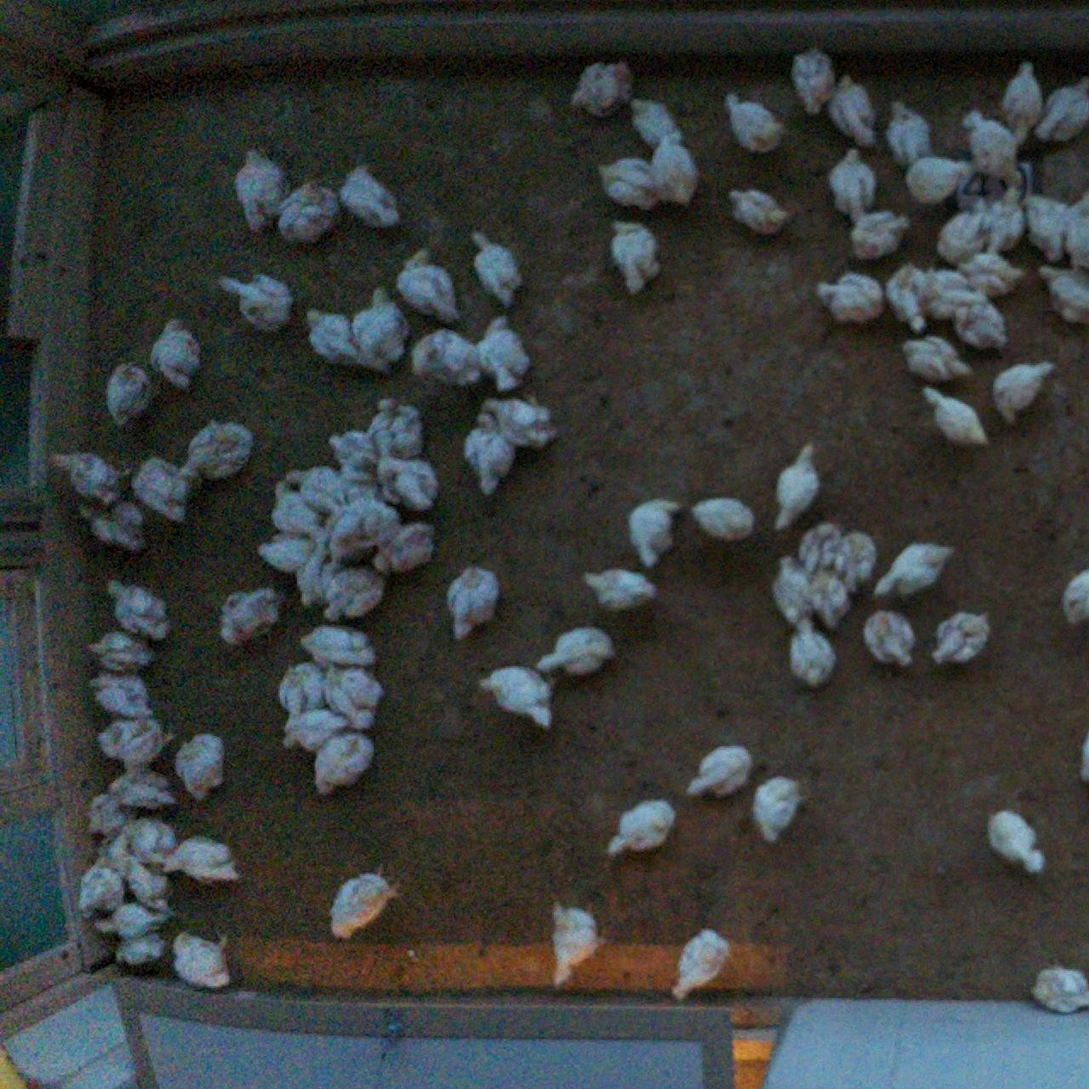chicken: (324, 864, 403, 944), (667, 924, 740, 1003), (481, 660, 560, 733), (97, 570, 173, 644), (339, 161, 412, 237), (984, 804, 1057, 880), (745, 773, 812, 852), (214, 271, 296, 334), (533, 627, 625, 682), (69, 499, 156, 556), (548, 902, 607, 984), (871, 542, 960, 596), (717, 89, 789, 155), (231, 146, 286, 231), (923, 389, 1005, 445), (412, 328, 487, 389), (398, 249, 458, 325), (957, 114, 1020, 186), (450, 562, 505, 644), (131, 455, 191, 530), (784, 42, 843, 118), (568, 58, 639, 121), (998, 60, 1047, 150), (686, 738, 759, 798), (182, 419, 254, 479), (373, 450, 442, 512), (352, 285, 402, 370), (462, 414, 518, 489), (474, 316, 531, 389), (328, 499, 402, 555), (289, 464, 362, 520), (609, 797, 676, 858), (480, 395, 557, 448), (887, 100, 945, 170), (784, 618, 841, 688), (773, 439, 821, 522), (812, 271, 887, 324), (278, 181, 337, 248), (828, 145, 878, 224), (474, 230, 522, 312), (102, 716, 171, 773), (60, 446, 122, 509), (172, 832, 239, 890), (928, 606, 995, 664), (150, 320, 206, 388), (733, 184, 801, 240), (323, 671, 386, 731), (862, 606, 919, 671), (175, 727, 230, 794), (648, 140, 702, 208), (304, 304, 363, 366), (84, 679, 167, 723), (995, 357, 1049, 424), (172, 936, 232, 996), (607, 219, 655, 294), (881, 265, 932, 334), (597, 155, 666, 206), (99, 360, 157, 420), (119, 854, 179, 912), (324, 419, 381, 480), (907, 334, 975, 385), (217, 584, 277, 641), (938, 202, 992, 265), (304, 625, 379, 670), (1017, 193, 1067, 260), (248, 530, 329, 571), (108, 767, 182, 811), (313, 738, 370, 795), (370, 402, 425, 461), (585, 564, 658, 608), (1042, 72, 1089, 140), (78, 629, 154, 671), (1035, 263, 1089, 322), (631, 501, 676, 571), (953, 294, 1008, 351), (266, 482, 320, 540), (88, 905, 166, 944), (327, 568, 385, 620), (985, 181, 1023, 259), (910, 155, 984, 195), (72, 864, 131, 914), (1025, 964, 1088, 1010), (690, 494, 757, 537), (853, 211, 906, 265), (925, 271, 981, 322), (293, 539, 336, 605), (379, 531, 437, 578), (277, 664, 330, 714), (837, 76, 875, 143), (767, 559, 805, 624), (121, 820, 173, 867), (635, 104, 689, 149), (806, 567, 849, 622), (962, 254, 1029, 288), (803, 531, 852, 573), (106, 938, 169, 969), (282, 720, 345, 751), (83, 791, 131, 830), (1062, 200, 1089, 269), (844, 531, 881, 581), (1064, 562, 1089, 625)
